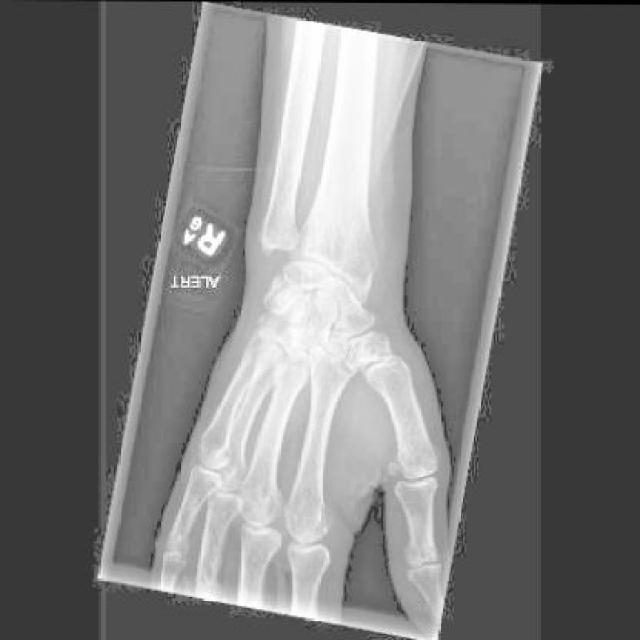Fracture: (269, 274, 300, 302)
